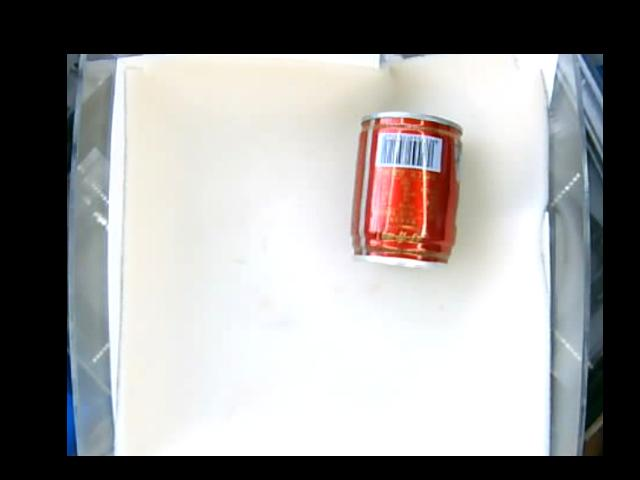Bottle: (350, 113, 463, 269)
